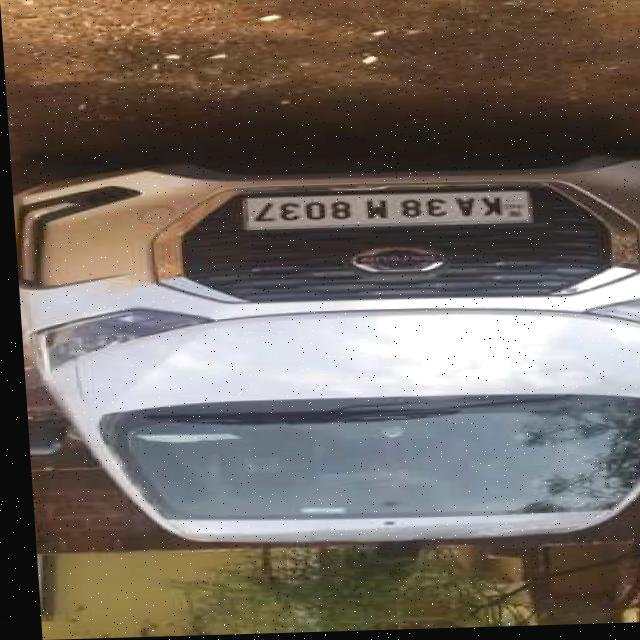plate: (233, 189, 531, 236)
